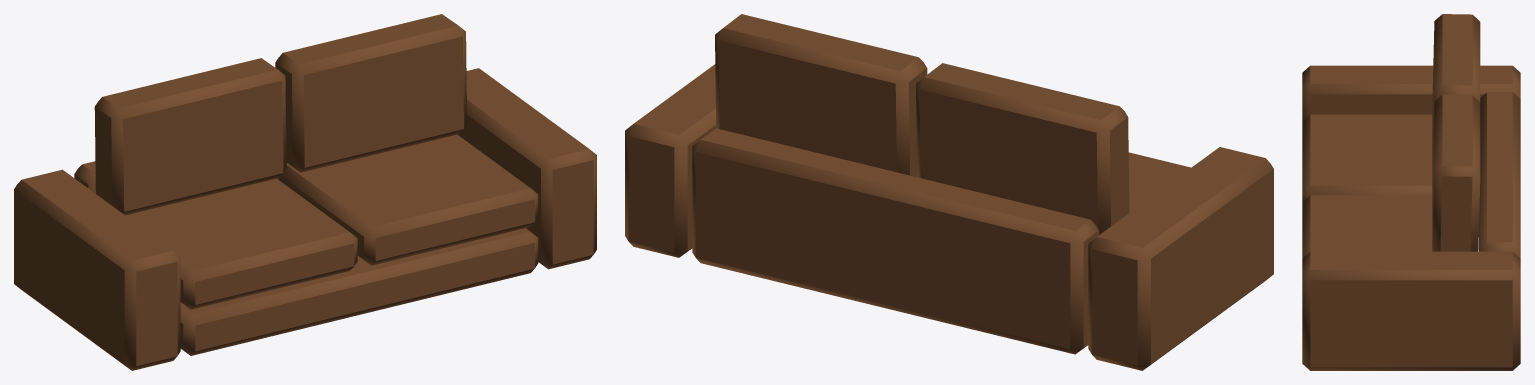
File: cc0-sofa-lod1.glb
3 renders of one model, left to right at view 1: azimuth 30°, elevation 25°; view 2: azimuth 150°, elevation 25°; view 3: azimuth 270°, elevation 25°, orthographic. The views are drawn at different scales.
Parts seen in each view (by area): view 1: part_0; view 2: part_0; view 3: part_0.
Boxes of the visible parts, x1,y1,x2,y2 form: part_0: (14, 14, 596, 370); part_0: (625, 14, 1273, 370); part_0: (1302, 14, 1520, 370).
Bounding box in the file's own units: 3.35 × 1.32 × 1.46.
